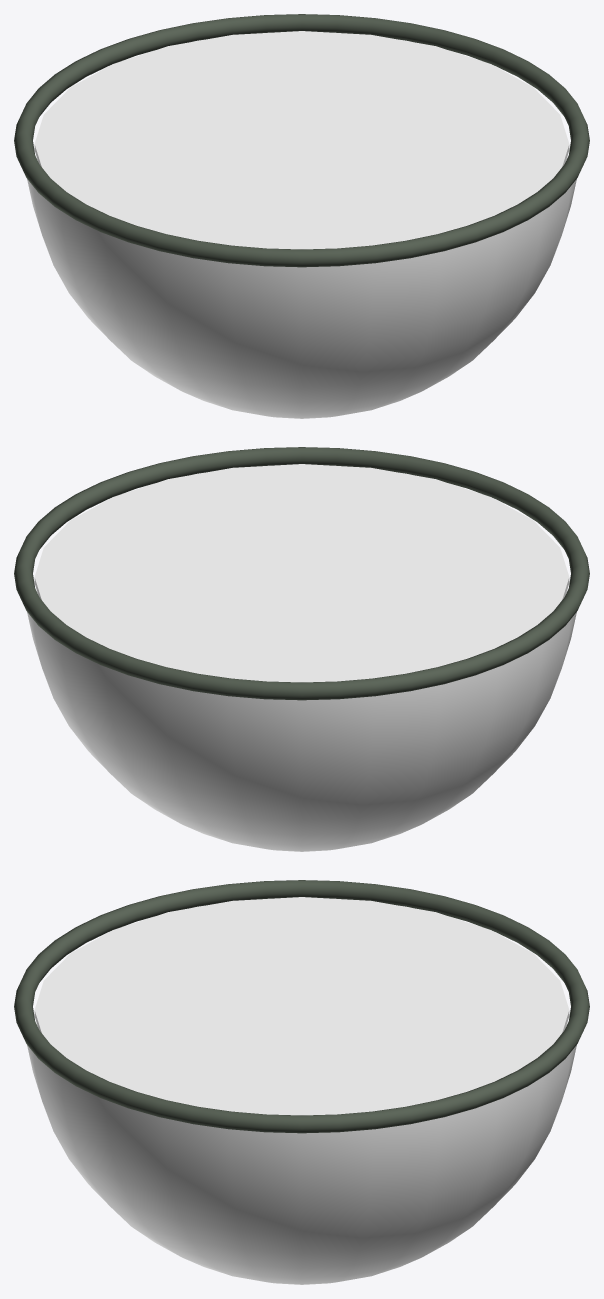
Rendered from capsule-bottom.prefab.glb.
3 renders of one model, top to bottom at view 1: azimuth 30°, elevation 25°; view 2: azimuth 150°, elevation 25°; view 3: azimuth 270°, elevation 25°, orthographic.
Parts seen in each view (by area): view 1: DeliveryCapsule_Batch0, DeliveryCapsule_Batch1; view 2: DeliveryCapsule_Batch0, DeliveryCapsule_Batch1; view 3: DeliveryCapsule_Batch0, DeliveryCapsule_Batch1.
Boxes of the visible parts, x1,y1,x2,y2 form: DeliveryCapsule_Batch0: (27, 31, 576, 418); DeliveryCapsule_Batch1: (14, 14, 589, 267); DeliveryCapsule_Batch0: (27, 464, 576, 851); DeliveryCapsule_Batch1: (14, 447, 589, 700); DeliveryCapsule_Batch0: (27, 897, 576, 1284); DeliveryCapsule_Batch1: (14, 880, 589, 1133).
Bounding box in the file's own units: 0.0486 × 0.0243 × 0.0486.
2 materials, 2 textured.
